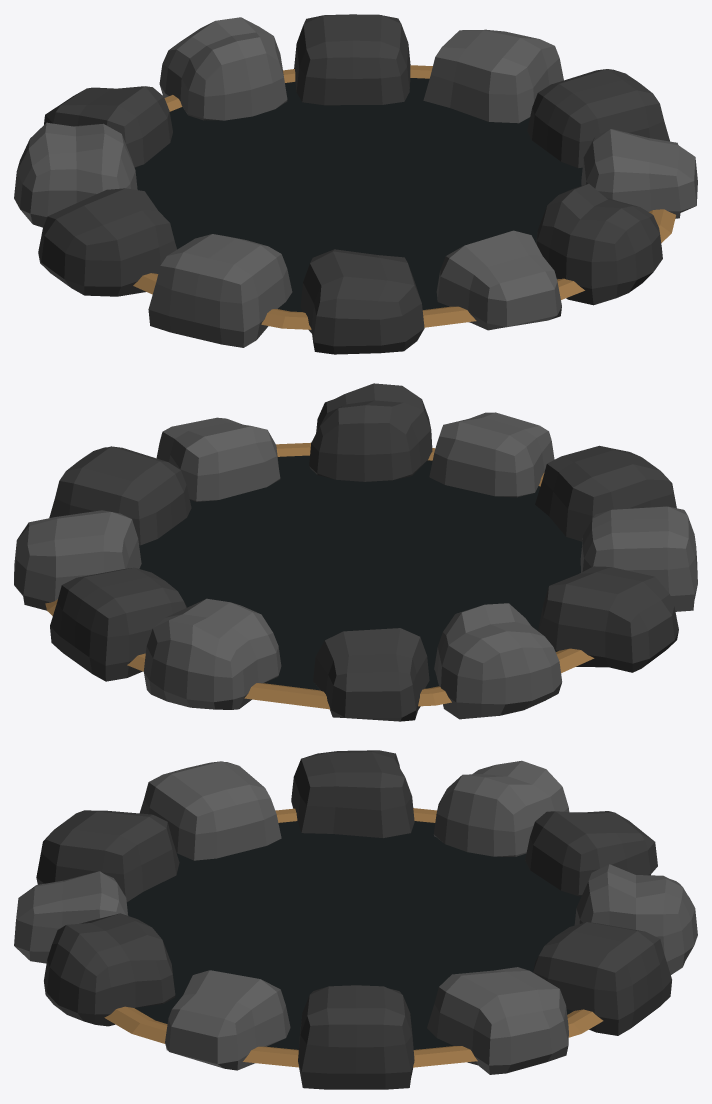
Rendered from Lil LobsterHole.fbx.
3 views of the same model, one above another, from view 1: azimuth 30°, elevation 25°; view 2: azimuth 150°, elevation 25°; view 3: azimuth 270°, elevation 25° (orthographic).
Parts seen in each view (by area): view 1: Lobster Hole; view 2: Lobster Hole; view 3: Lobster Hole.
Part boxes in pixels (left/top/right/bottom): Lobster Hole: left=14, top=14, right=697, bottom=354; Lobster Hole: left=14, top=383, right=697, bottom=721; Lobster Hole: left=14, top=750, right=697, bottom=1089.
Bounding box in the file's own units: 878 × 121 × 876.
